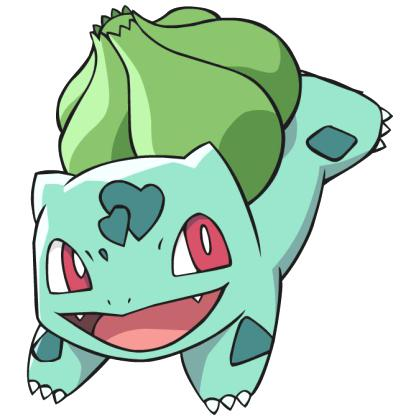Bisasam: (1, 0, 415, 416), (1, 0, 395, 415)
